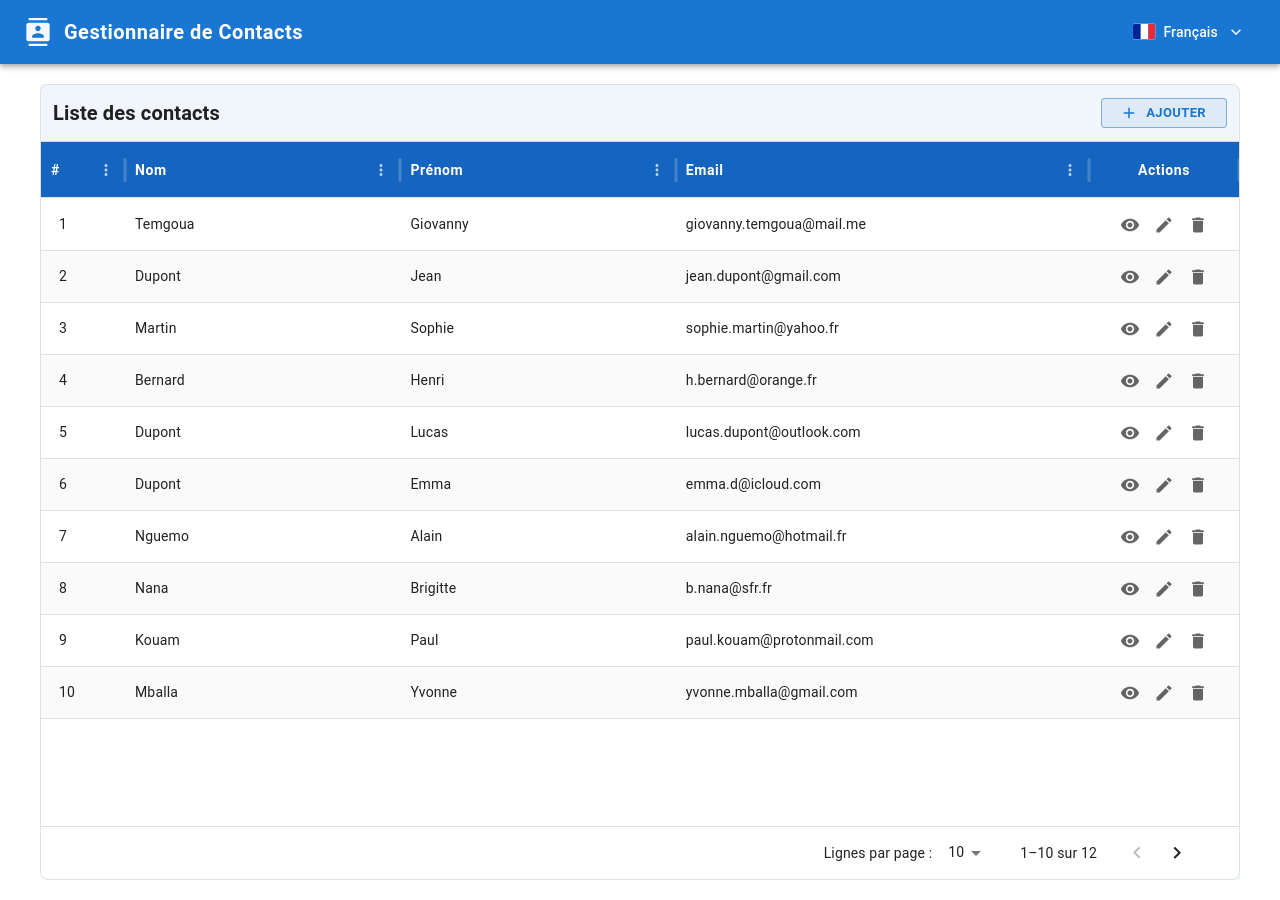
Scenario: App › should remove a contact after delete confirmation
Expected: the text "Temgoua" is shown, top-left (135, 216), bottom-right (195, 232)
Click the button named "delete-1" at [1198, 224], box top-left (1183, 210), bottom-right (1213, 240)
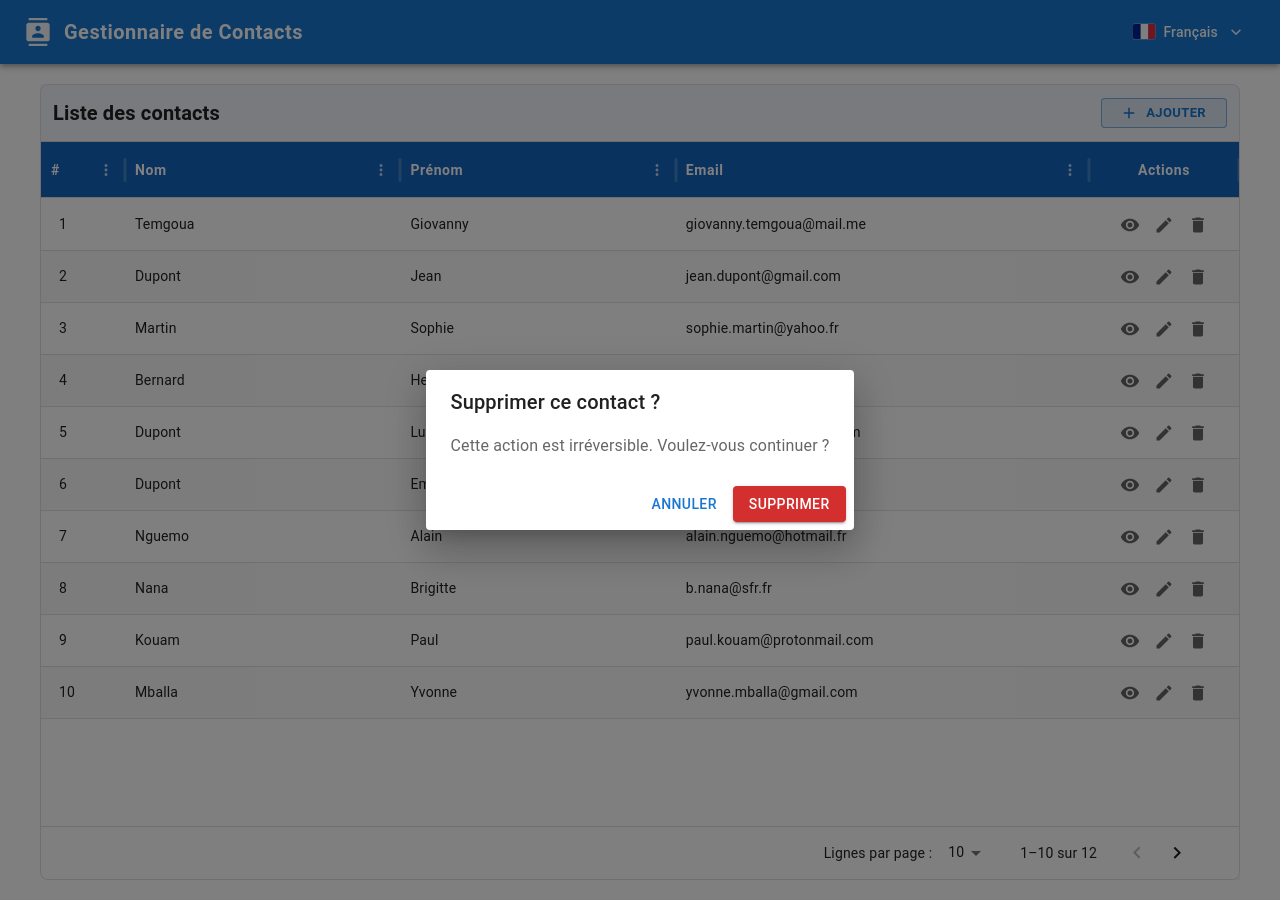
Now the heading "Supprimer ce contact ?" is shown, box top-left (450, 390), bottom-right (660, 414)
Click the button "Supprimer" at [789, 504], box top-left (733, 486), bottom-right (846, 522)
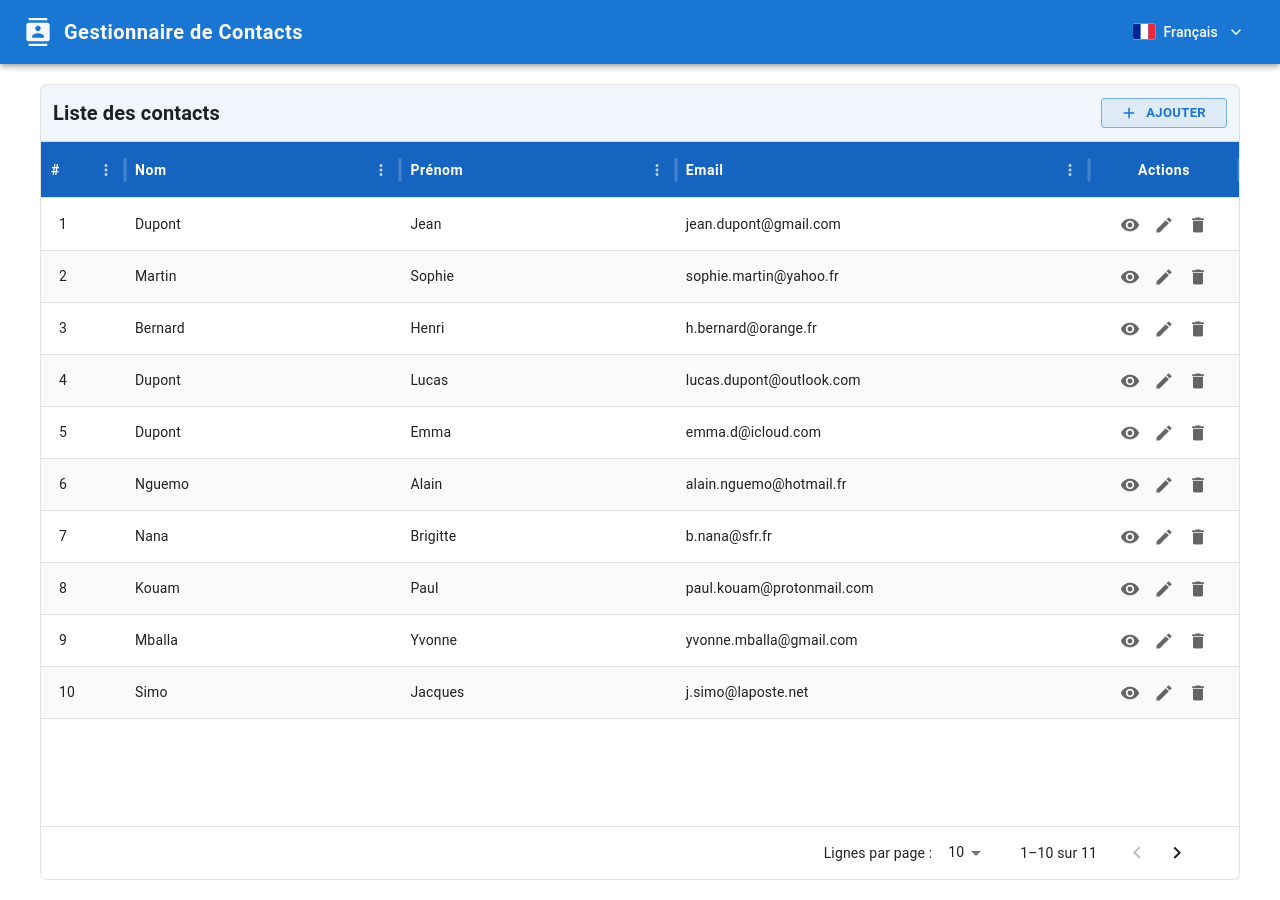
Now the text "Temgoua" is gone
